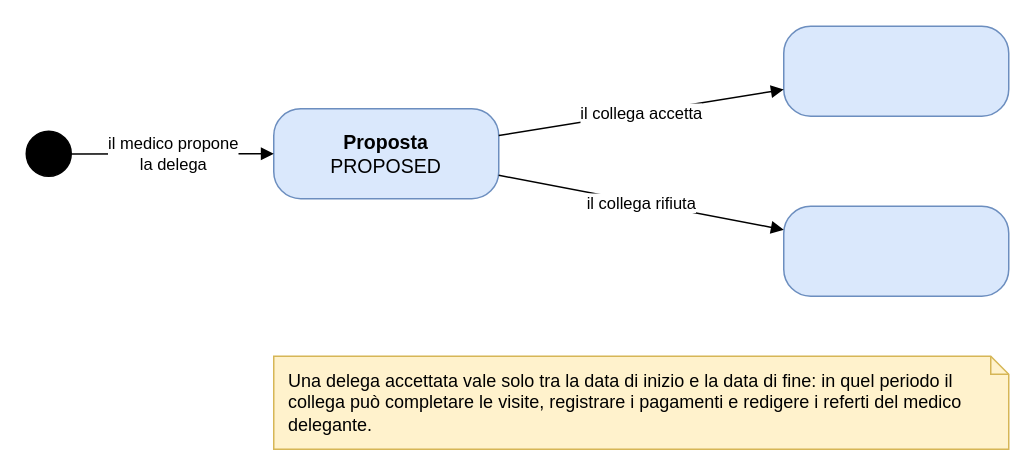
Some shapes in this 1035 by 476 pixel diagram are drawn without their labels. The box of each missing label's shape, as (x1, y1, x2, y2) in pixels:
Accettata ACCEPTED: (782, 25, 1009, 116)
Rifiutata REJECTED: (782, 205, 1009, 296)
